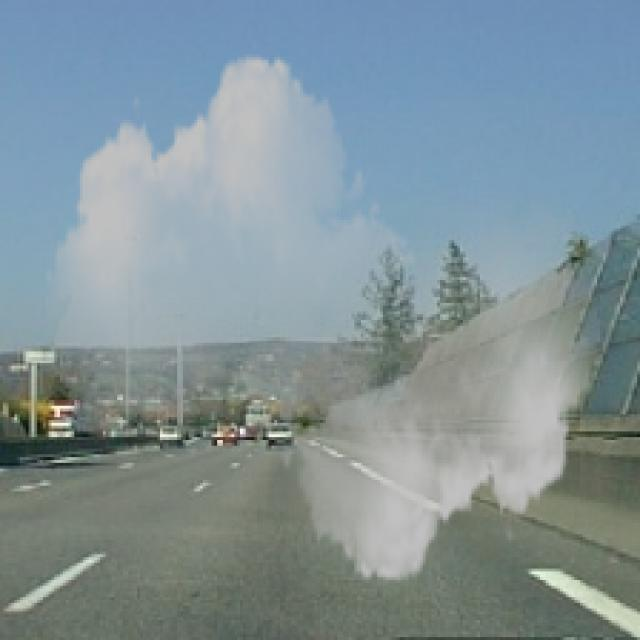Smoke: (45, 37, 600, 600)
